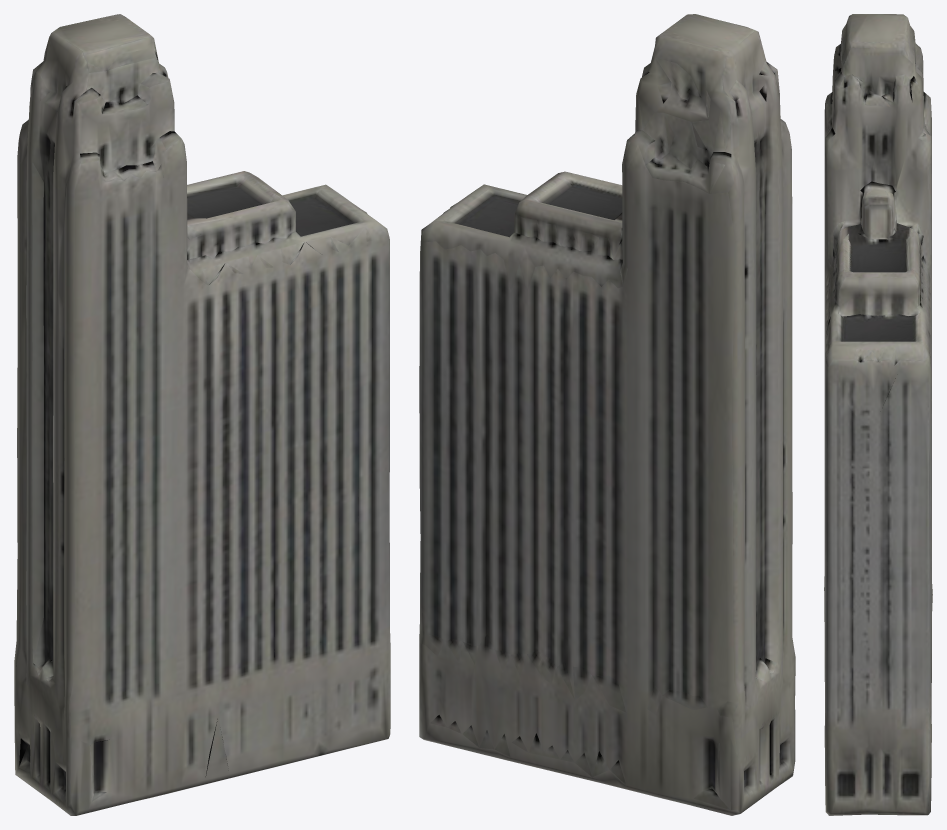
File: michigan_333_n.glb
3 views of the same model, side by side, from view 1: azimuth 30°, elevation 25°; view 2: azimuth 150°, elevation 25°; view 3: azimuth 270°, elevation 25° (orthographic). The views are drawn at different scales.
Parts seen in each view (by area): view 1: michigan_333_n; view 2: michigan_333_n; view 3: michigan_333_n.
Part boxes in pixels (x1,y1,x2,y2): michigan_333_n: [14, 14, 390, 815]; michigan_333_n: [419, 14, 795, 815]; michigan_333_n: [824, 14, 932, 815].
Bounding box in the file's own units: 59 × 130 × 19.
1 material, 1 textured.
